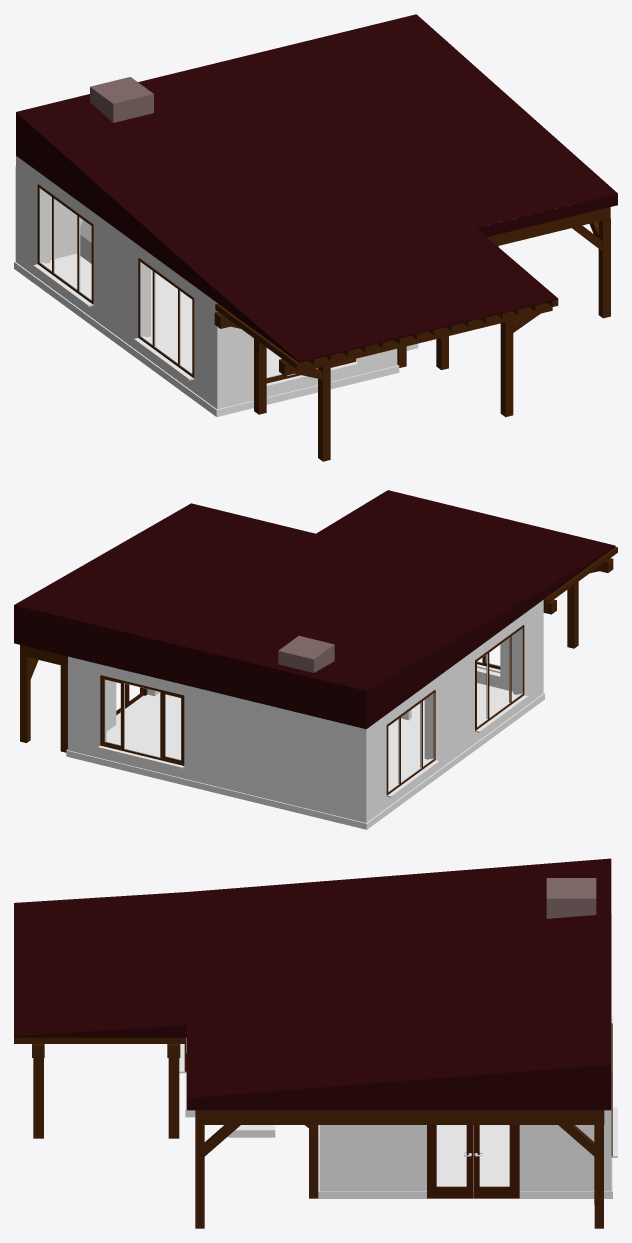
Rendered from house.glb.
3 renders of one model, top to bottom at view 1: azimuth 30°, elevation 25°; view 2: azimuth 150°, elevation 25°; view 3: azimuth 270°, elevation 25°, orthographic. The views are drawn at different scales.
Visible parts, largest first — view 1: roof, wall, Wood, roof_2, Floor, Cokol, Pipe_2, Marble, Plastic; view 2: roof, wall, Wood, roof_2, Floor, Cokol, Plastic, Pipe_2, Marble; view 3: roof, Wood, wall, roof_2, Floor, Door_material, Cokol, Pipe_2.
Part boxes in pixels (x1,y1,x2,y2): roof: (16, 14, 617, 361); wall: (15, 156, 397, 409); Wood: (37, 184, 610, 461); roof_2: (16, 144, 617, 362); Floor: (50, 253, 281, 376); Cokol: (14, 261, 418, 416); Pipe_2: (90, 77, 153, 122); Marble: (33, 262, 358, 387); Plastic: (39, 188, 317, 378); roof: (14, 490, 614, 718); wall: (68, 600, 543, 822); Wood: (20, 547, 617, 795); roof_2: (14, 546, 615, 729); Floor: (106, 683, 513, 785); Cokol: (66, 693, 544, 829); Plastic: (104, 628, 522, 792); Pipe_2: (278, 636, 334, 672); Marble: (98, 664, 527, 797); roof: (14, 858, 611, 1097); Wood: (14, 1023, 612, 1228); wall: (319, 914, 611, 1191); roof_2: (14, 1025, 611, 1110); Floor: (426, 1125, 509, 1198); Door_material: (427, 1125, 519, 1198); Cokol: (185, 1016, 612, 1198); Pipe_2: (546, 878, 596, 918).
Size of the model in its own units: 103 by 41.65 by 126.
